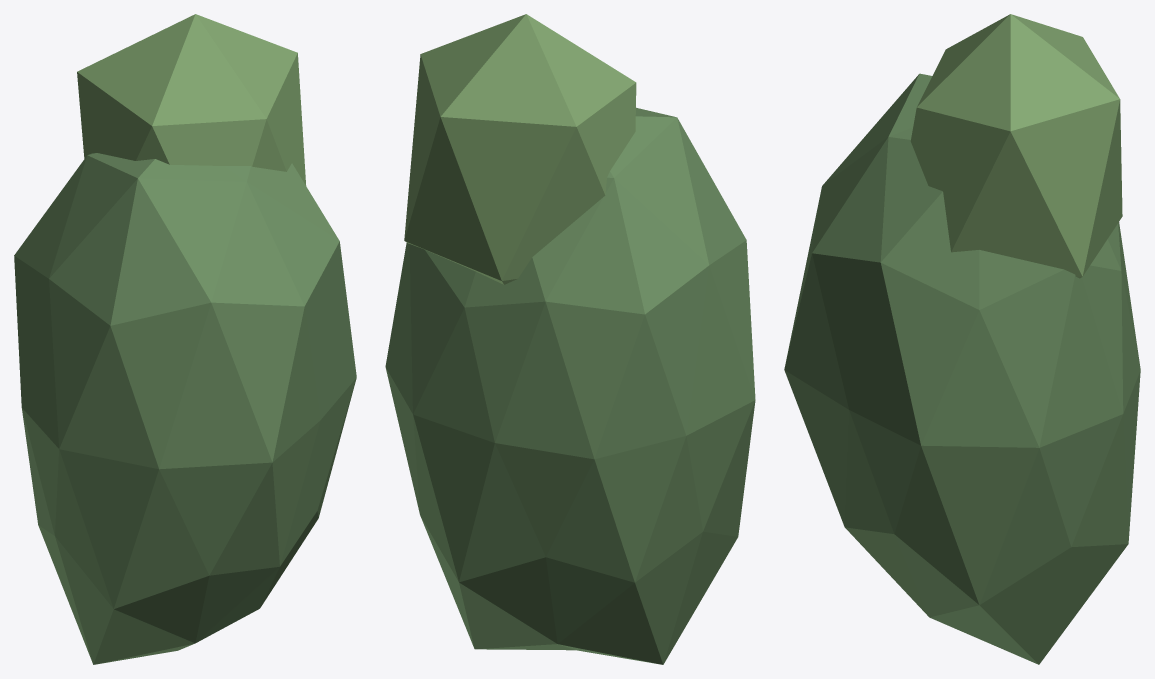
The model's file is bush-tall.glb.
3 renders of one model, left to right at view 1: azimuth 30°, elevation 25°; view 2: azimuth 150°, elevation 25°; view 3: azimuth 270°, elevation 25°, orthographic. The views are drawn at different scales.
Visible parts, largest first — view 1: bush-tall; view 2: bush-tall; view 3: bush-tall.
Part boxes in pixels (x1,y1,x2,y2): bush-tall: (14,14,356,664); bush-tall: (385,14,755,664); bush-tall: (784,14,1140,664).
Bounding box in the file's own units: 0.9232 × 1.81 × 0.9166.
